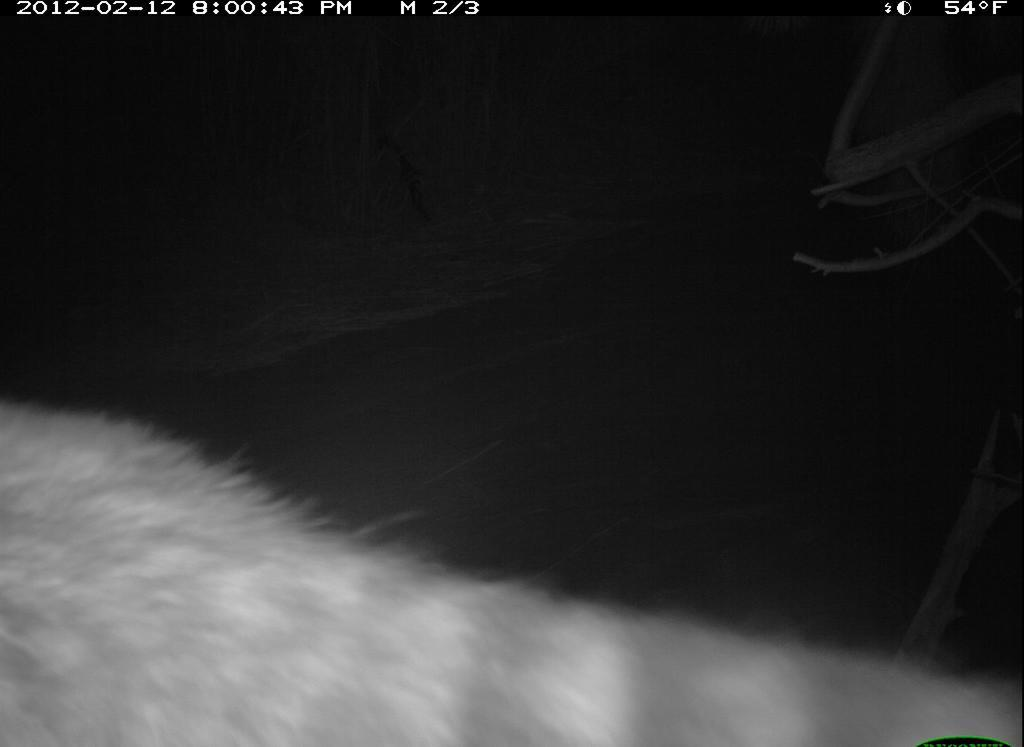raccoon: (3, 383, 1023, 747)
